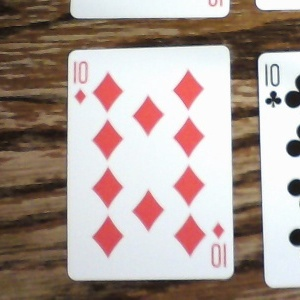card: (65, 45, 235, 278)
